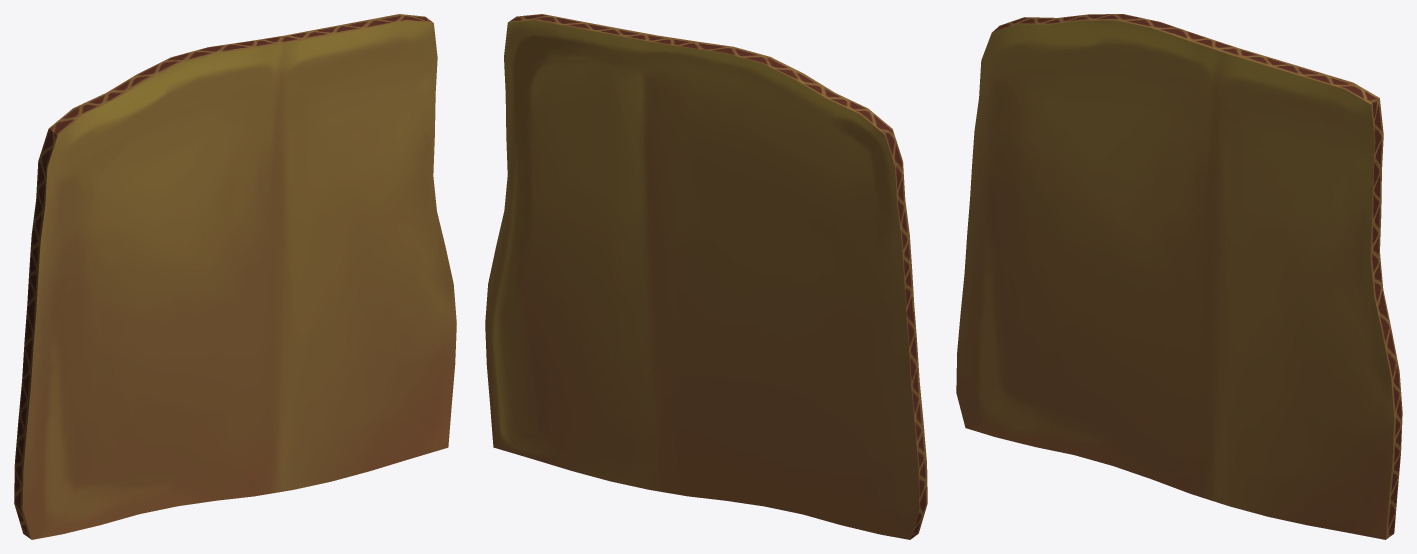
The model's file is cartón_Pj_3.fbx.
The picture shows the model from 3 angles, left to right: view 1: azimuth 30°, elevation 25°; view 2: azimuth 150°, elevation 25°; view 3: azimuth 330°, elevation 25°; orthographic projection.
Visible parts, largest first — view 1: Carton_Pj_3; view 2: Carton_Pj_3; view 3: Carton_Pj_3.
Boxes of the visible parts, x1=… form: Carton_Pj_3: x1=14, y1=14, x2=456, y2=539; Carton_Pj_3: x1=485, y1=14, x2=927, y2=539; Carton_Pj_3: x1=956, y1=14, x2=1402, y2=539.
Size of the model in its own units: 204 by 205 by 7.
1 material, 1 textured.
